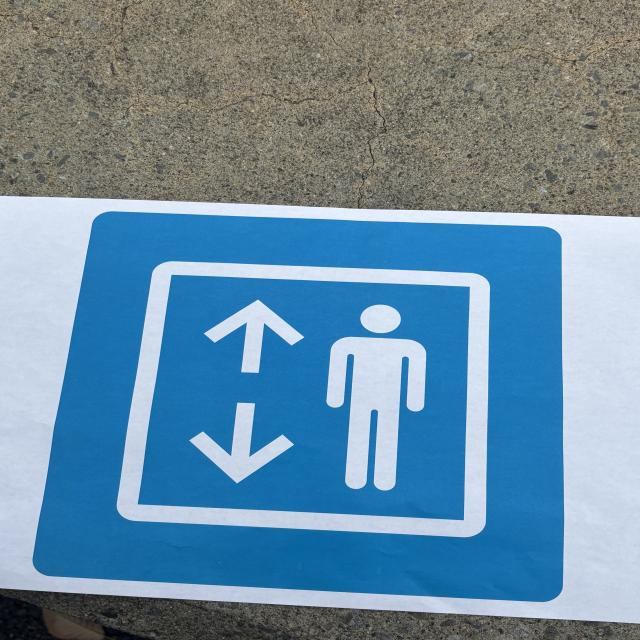elevator: (33, 212, 562, 599)
